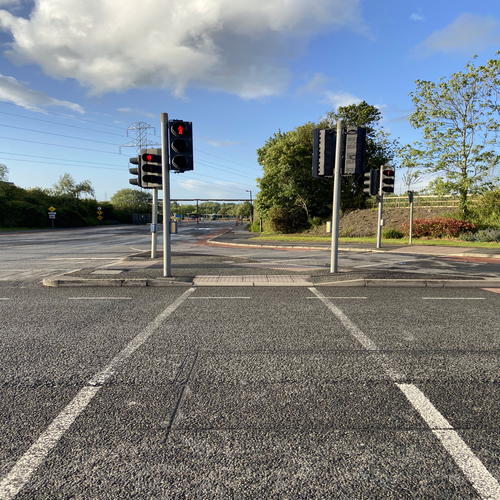Traffic Light: (165, 119, 192, 172), (137, 150, 164, 190), (381, 164, 396, 199)
